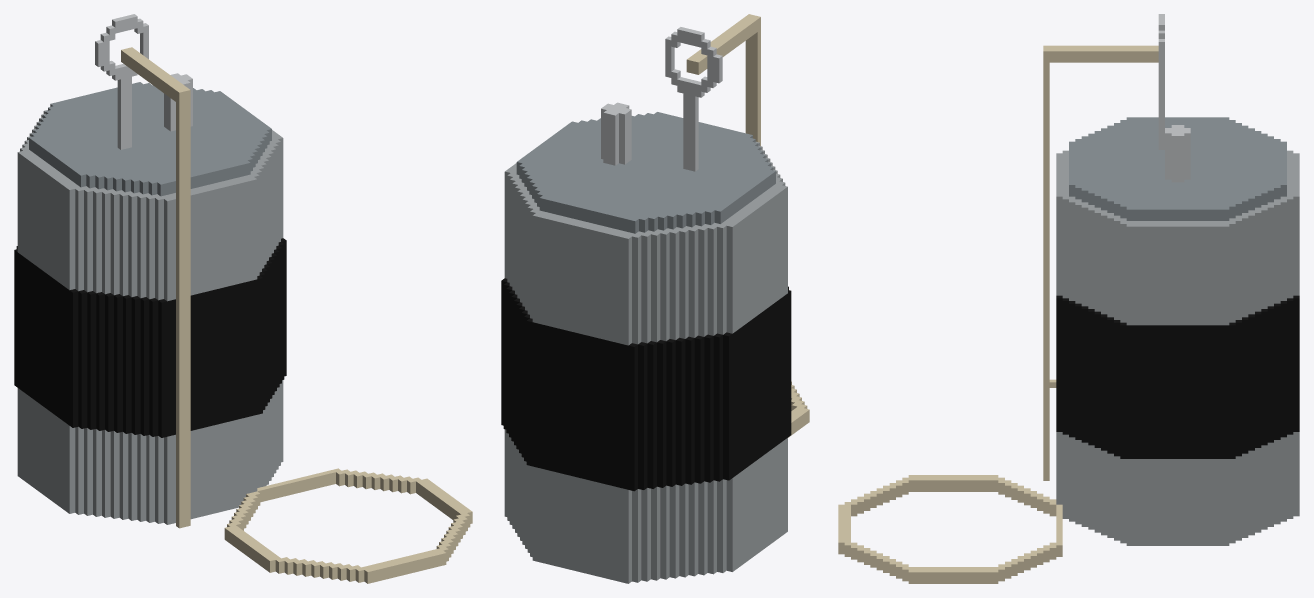
The model's file is boobytrap.glb.
The picture shows the model from 3 angles, left to right: view 1: azimuth 30°, elevation 25°; view 2: azimuth 150°, elevation 25°; view 3: azimuth 270°, elevation 25°; orthographic projection. The views are drawn at different scales.
Visible parts, largest first — view 1: boobytrap:compound; view 2: boobytrap:compound; view 3: boobytrap:compound.
Boxes of the visible parts, <box> form: boobytrap:compound: <box>14,14,472,583</box>; boobytrap:compound: <box>501,14,809,583</box>; boobytrap:compound: <box>838,14,1299,583</box>.
Size of the model in its own units: 0.104 by 0.158 by 0.144.
